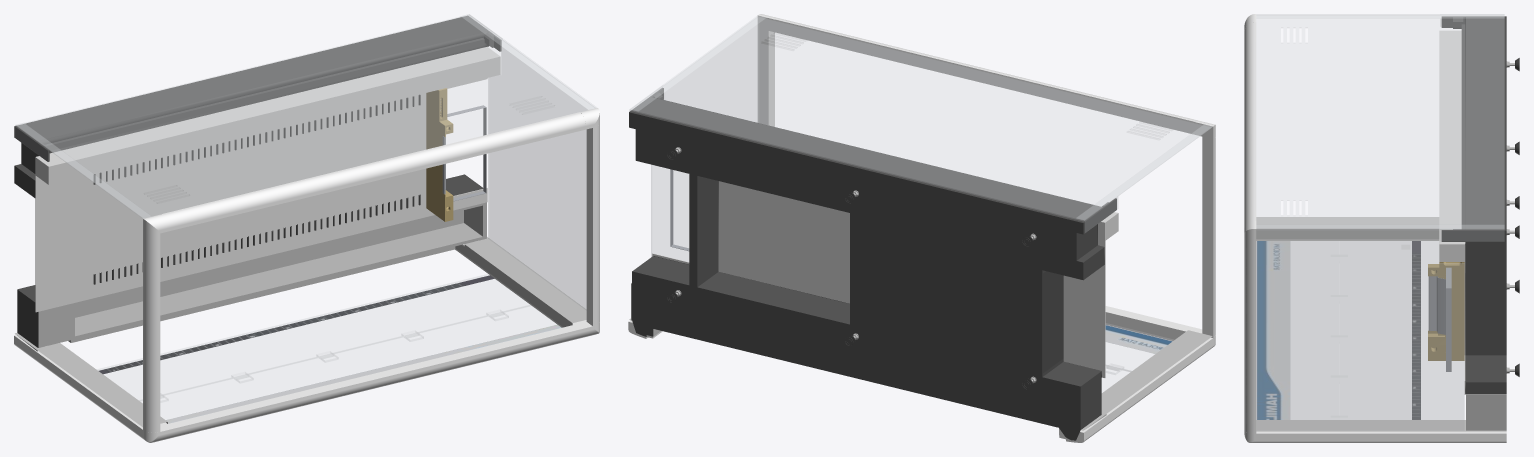
The model's file is STAR.glb.
The picture shows the model from 3 angles, left to right: view 1: azimuth 30°, elevation 25°; view 2: azimuth 150°, elevation 25°; view 3: azimuth 270°, elevation 25°; orthographic projection. The views are drawn at different scales.
Parts seen in each view (by area): view 1: star_base; view 2: star_base; view 3: star_base.
Boxes of the visible parts, <box> form: star_base: <box>14,14,599,442</box>; star_base: <box>628,14,1215,442</box>; star_base: <box>1244,14,1519,442</box>.
Bounding box in the file's own units: 1.67 × 0.7926 × 0.903.
Materials: 13 (2 with a texture image).
